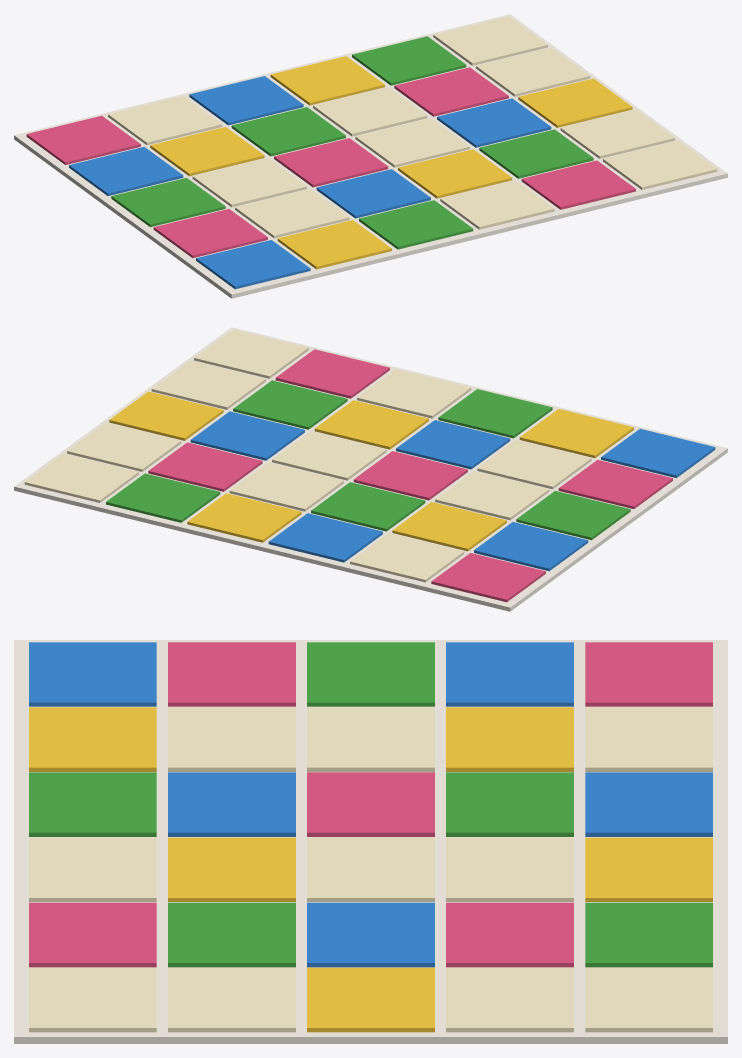
The model's file is rug-quilt.glb.
The picture shows the model from 3 angles, top to bottom: view 1: azimuth 30°, elevation 25°; view 2: azimuth 150°, elevation 25°; view 3: azimuth 270°, elevation 25°; orthographic projection. The views are drawn at different scales.
Size of the model in its own units: 2.5 by 0.0325 by 1.9.
